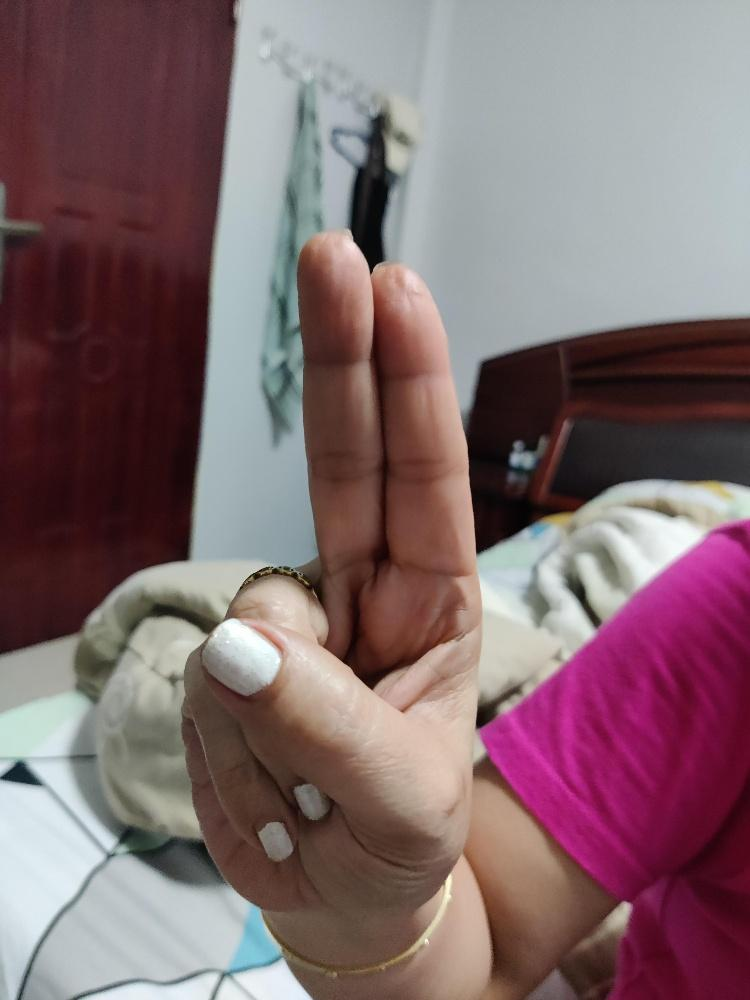u: (176, 228, 485, 915)
